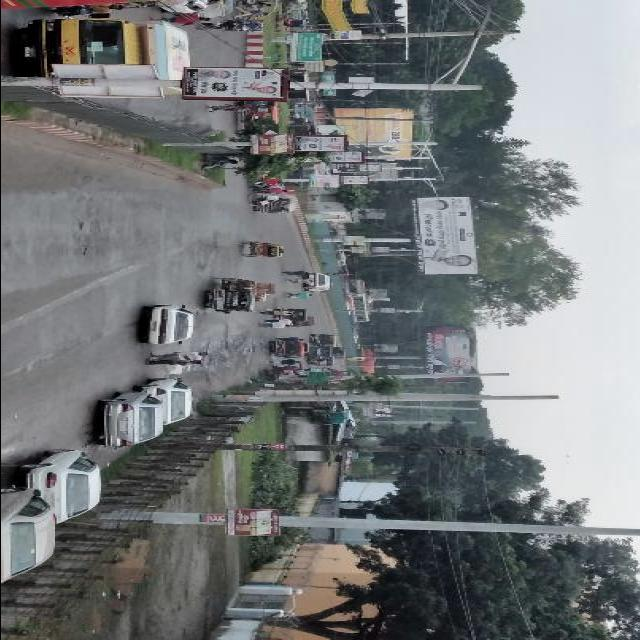bus: (346, 280, 372, 323)
car: (28, 448, 102, 522), (3, 493, 54, 584), (102, 393, 166, 450), (138, 378, 192, 425), (151, 304, 195, 344), (165, 2, 211, 15)
motorcycle: (208, 290, 257, 313), (240, 101, 282, 126), (57, 5, 113, 19), (242, 1, 280, 20), (244, 244, 286, 259), (273, 341, 305, 359), (256, 200, 294, 215), (276, 309, 310, 323), (229, 21, 265, 33), (252, 178, 282, 190), (312, 335, 338, 348), (312, 359, 334, 367), (294, 321, 316, 327), (336, 349, 346, 359)
truck: (22, 16, 194, 96), (291, 105, 319, 135), (307, 273, 335, 293), (356, 349, 376, 374)
